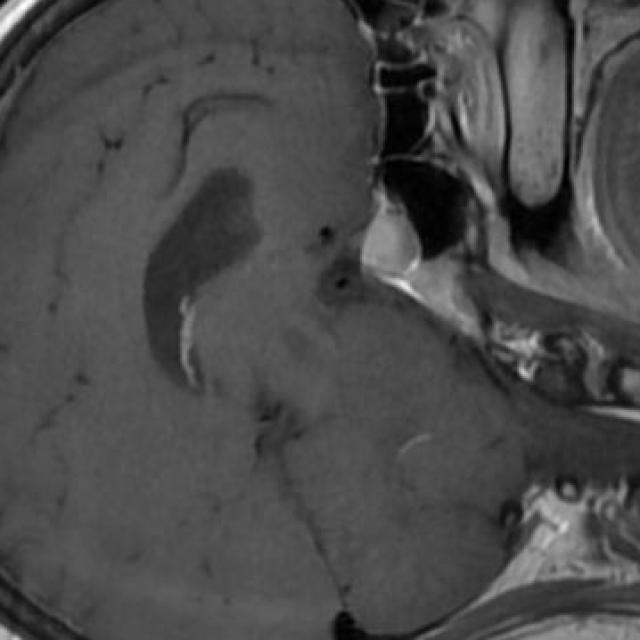pituitary: (362, 200, 423, 276)
